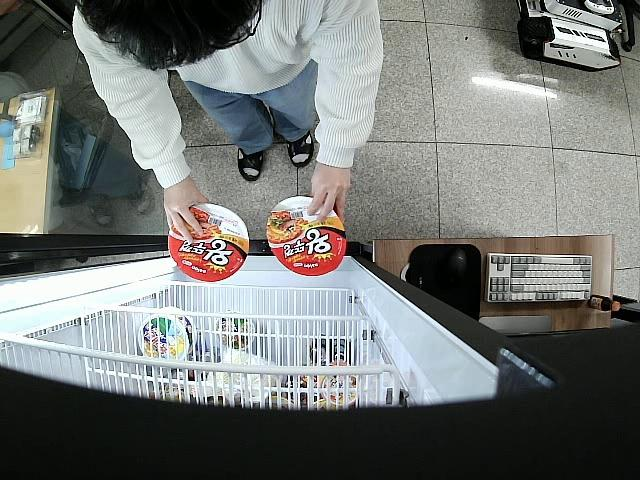00_hand: (307, 159, 353, 229), (163, 185, 211, 246)
10_wangTtukkeong: (168, 203, 250, 284), (267, 197, 345, 277)
